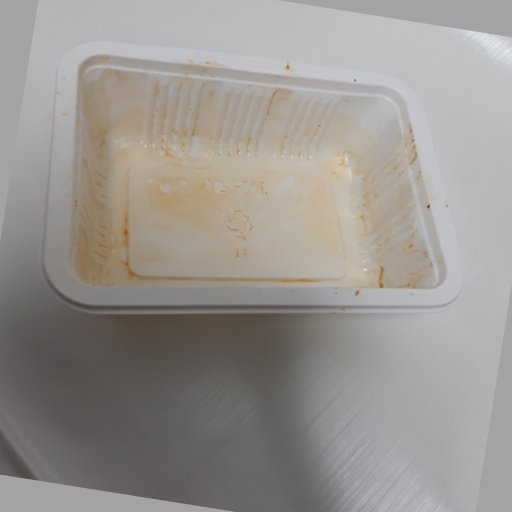Plastic_4: (40, 41, 461, 322)
